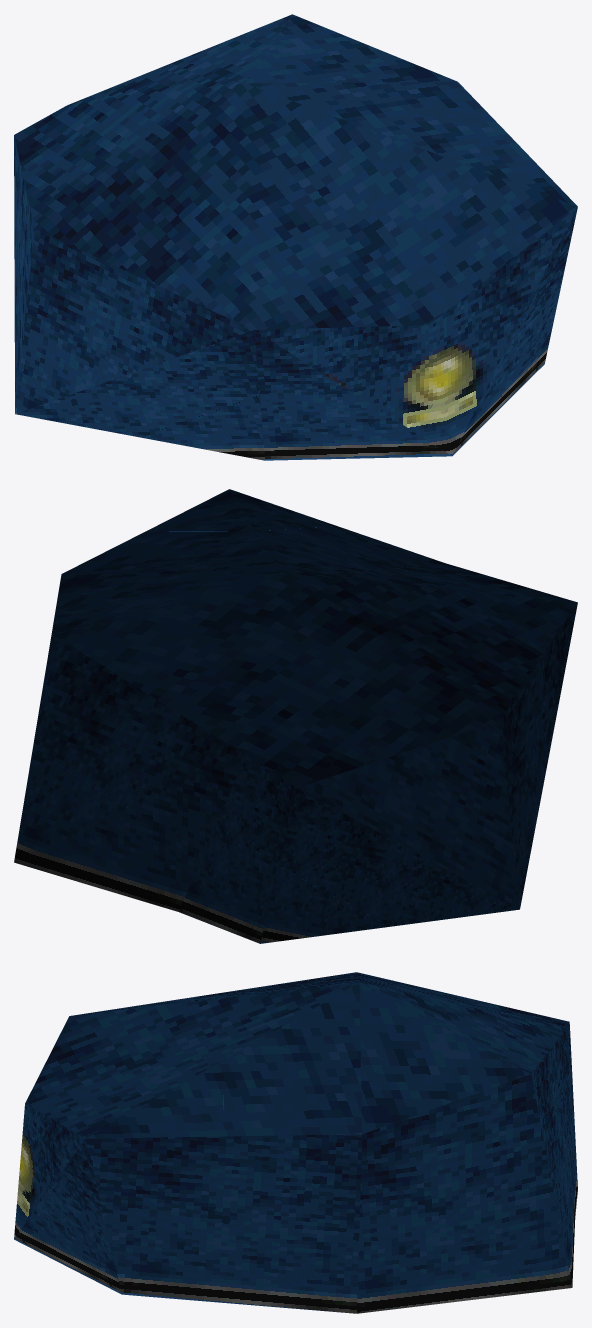
File: PhatberetblueZ.obj
The picture shows the model from 3 angles, top to bottom: view 1: azimuth 30°, elevation 25°; view 2: azimuth 150°, elevation 25°; view 3: azimuth 270°, elevation 25°; orthographic projection. The views are drawn at different scales.
Bounding box in the file's own units: 181 × 111 × 204.
2 materials, 2 textured.
